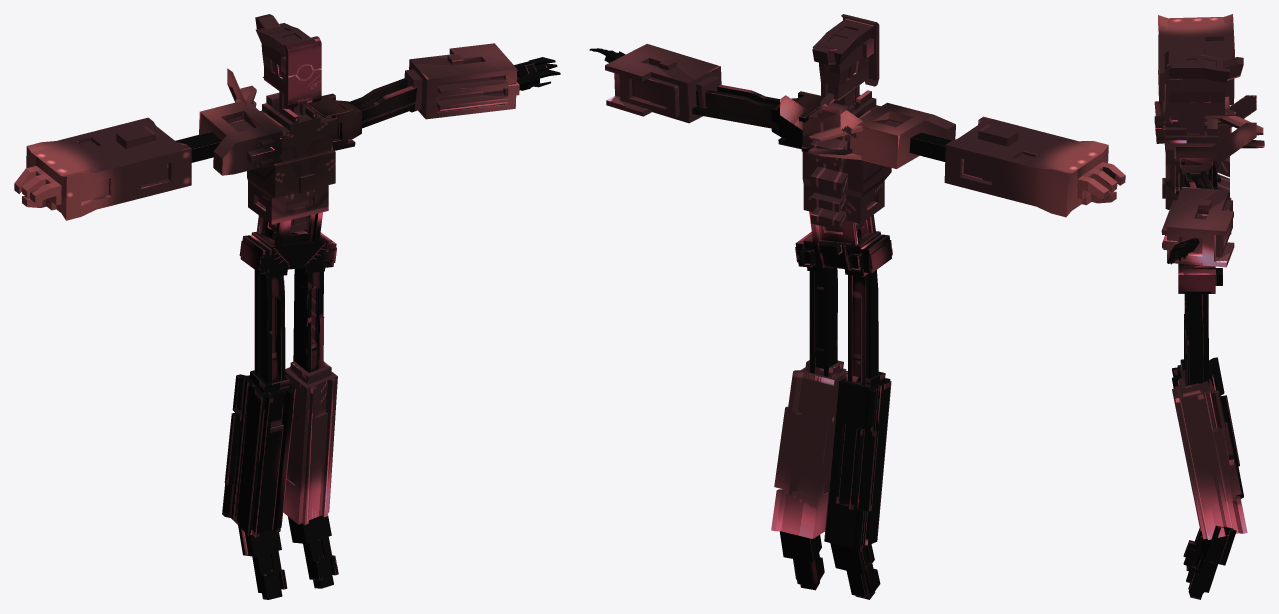
File: Enemy Model.fbx
3 renders of one model, left to right at view 1: azimuth 30°, elevation 25°; view 2: azimuth 150°, elevation 25°; view 3: azimuth 270°, elevation 25°, orthographic. The views are drawn at different scales.
Parts seen in each view (by area): view 1: Cube.020, Cube.005, Cube.001, Cube.008, Cube.011, Cube.018, Cube, Cube.003, Cube.004, Cube.009, Cube.007, Cube.006 (+3 smaller); view 2: Cube.020, Cube.005, Cube.008, Cube.001, Cube.011, Cube.018, Cube, Cube.003, Cube.004, Cube.009, Cube.010, Cube.006 (+3 smaller); view 3: Cube.008, Cube.011, Cube, Cube.020, Cube.001, Cube.009, Cube.007, Cube.012, Cube.018, Cube.003, Cube.005, Cube.002 (+3 smaller).
Part boxes in pixels (x1,y1,x2,y2): Cube.020: (14,117,191,220); Cube.005: (222,370,295,537); Cube.001: (227,68,335,232); Cube.008: (283,361,337,524); Cube.011: (404,43,519,119); Cube.018: (199,85,282,175); Cube: (255,14,321,108); Cube.003: (239,212,336,276); Cube.004: (254,270,285,382); Cube.009: (293,268,324,372); Cube.007: (288,515,338,588); Cube.006: (238,526,287,599); Cube.020: (944,116,1125,217); Cube.005: (824,371,891,551); Cube.008: (771,360,847,538); Cube.001: (780,90,891,232); Cube.011: (605,44,721,123); Cube.018: (808,102,955,168); Cube: (812,14,879,106); Cube.003: (795,211,892,276); Cube.004: (848,270,878,385); Cube.009: (809,268,837,376); Cube.010: (692,84,779,129); Cube.006: (830,543,880,599); Cube.008: (1172,377,1247,539); Cube.011: (1161,187,1234,267); Cube: (1164,50,1243,123); Cube.020: (1158,14,1234,105); Cube.001: (1162,95,1256,234); Cube.009: (1184,294,1209,386); Cube.007: (1186,525,1236,599); Cube.012: (1174,146,1220,194); Cube.018: (1154,96,1264,151); Cube.003: (1178,263,1222,293); Cube.005: (1172,357,1243,498); Cube.002: (1177,115,1204,135).
Size of the model in its own units: 1378 by 1411 by 269.
